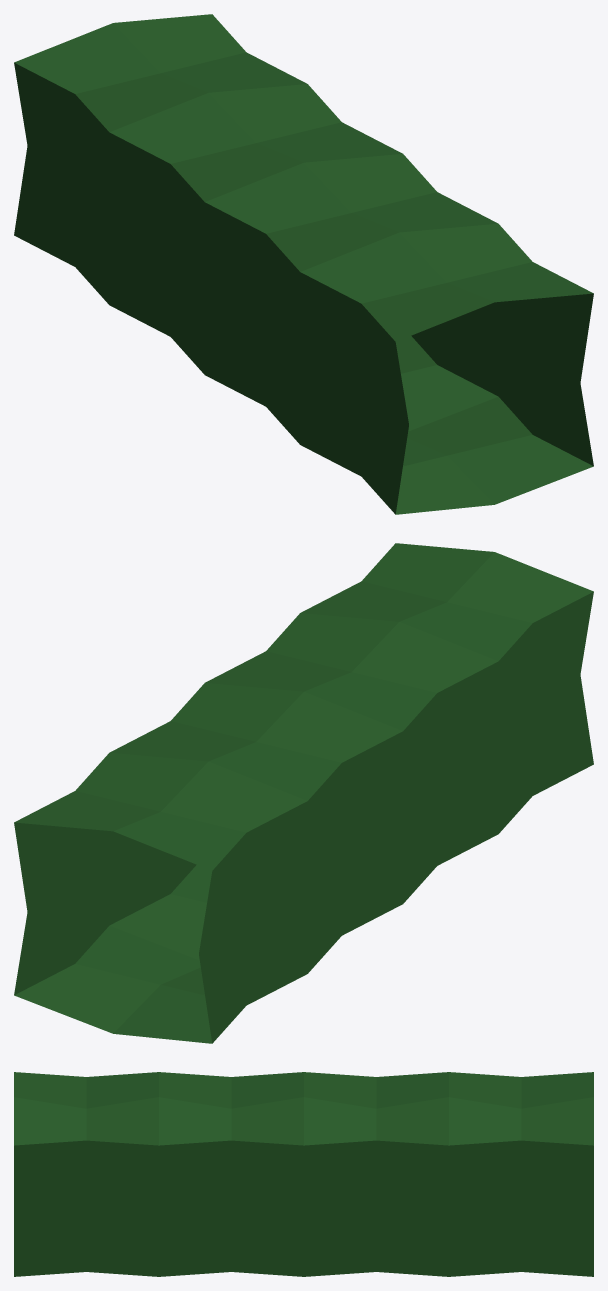
File: bush_top.fbx
The picture shows the model from 3 angles, top to bottom: view 1: azimuth 30°, elevation 25°; view 2: azimuth 150°, elevation 25°; view 3: azimuth 270°, elevation 25°; orthographic projection. The views are drawn at different scales.
Parts seen in each view (by area): view 1: Bush.Top; view 2: Bush.Top; view 3: Bush.Top.
Boxes of the visible parts, x1,y1,x2,y2 form: Bush.Top: (14,14,593,514); Bush.Top: (14,543,593,1043); Bush.Top: (14,1072,593,1276).
Bounding box in the file's own units: 120 × 117 × 400.
